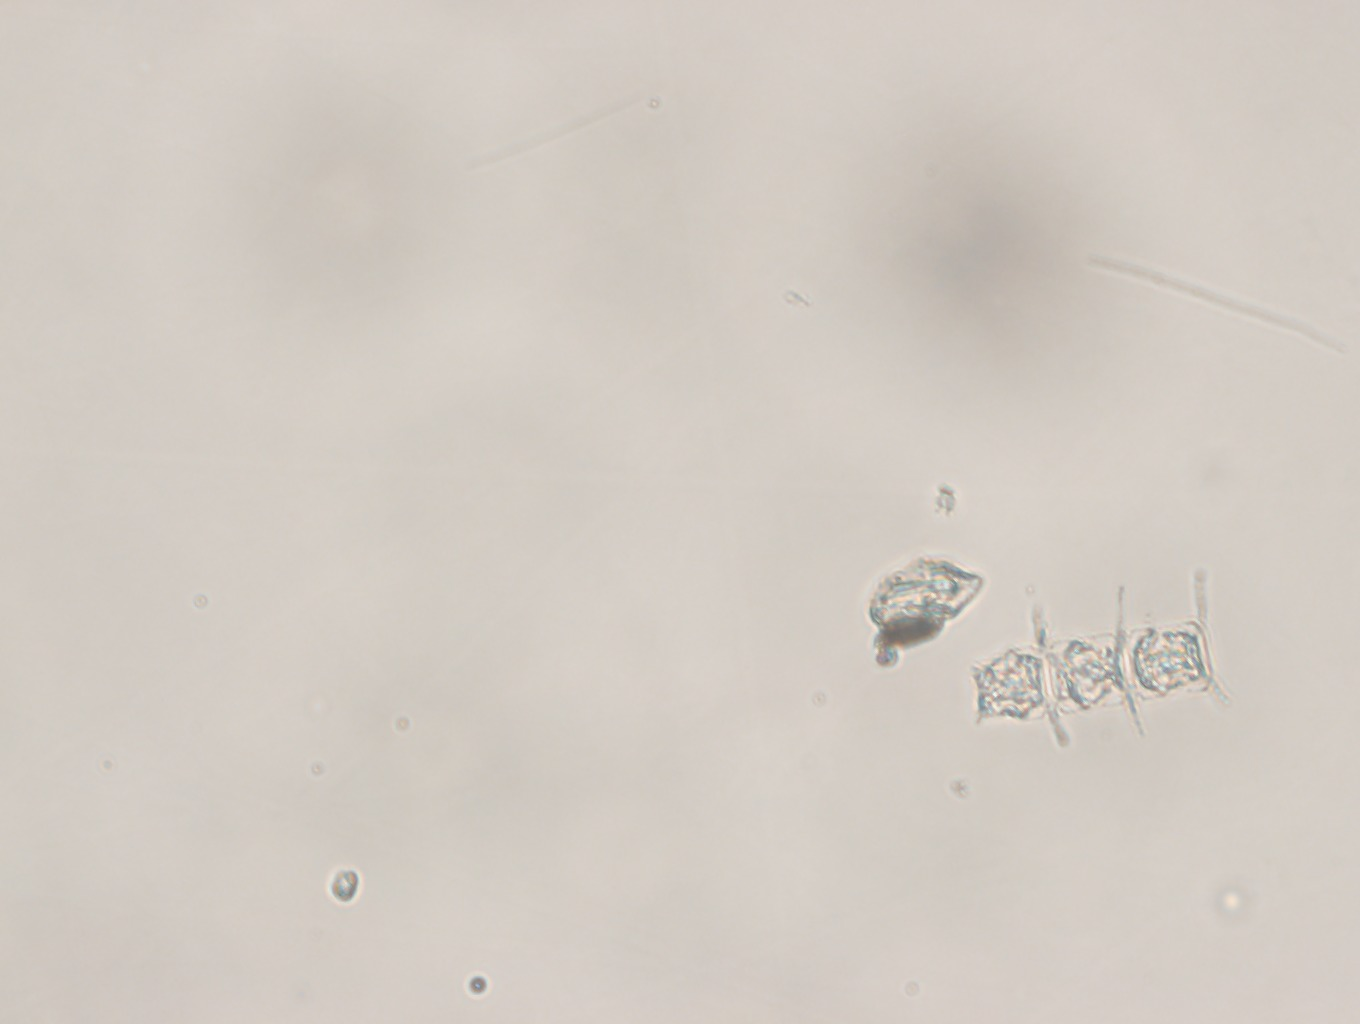chaetoceros: (967, 573, 1248, 755)
